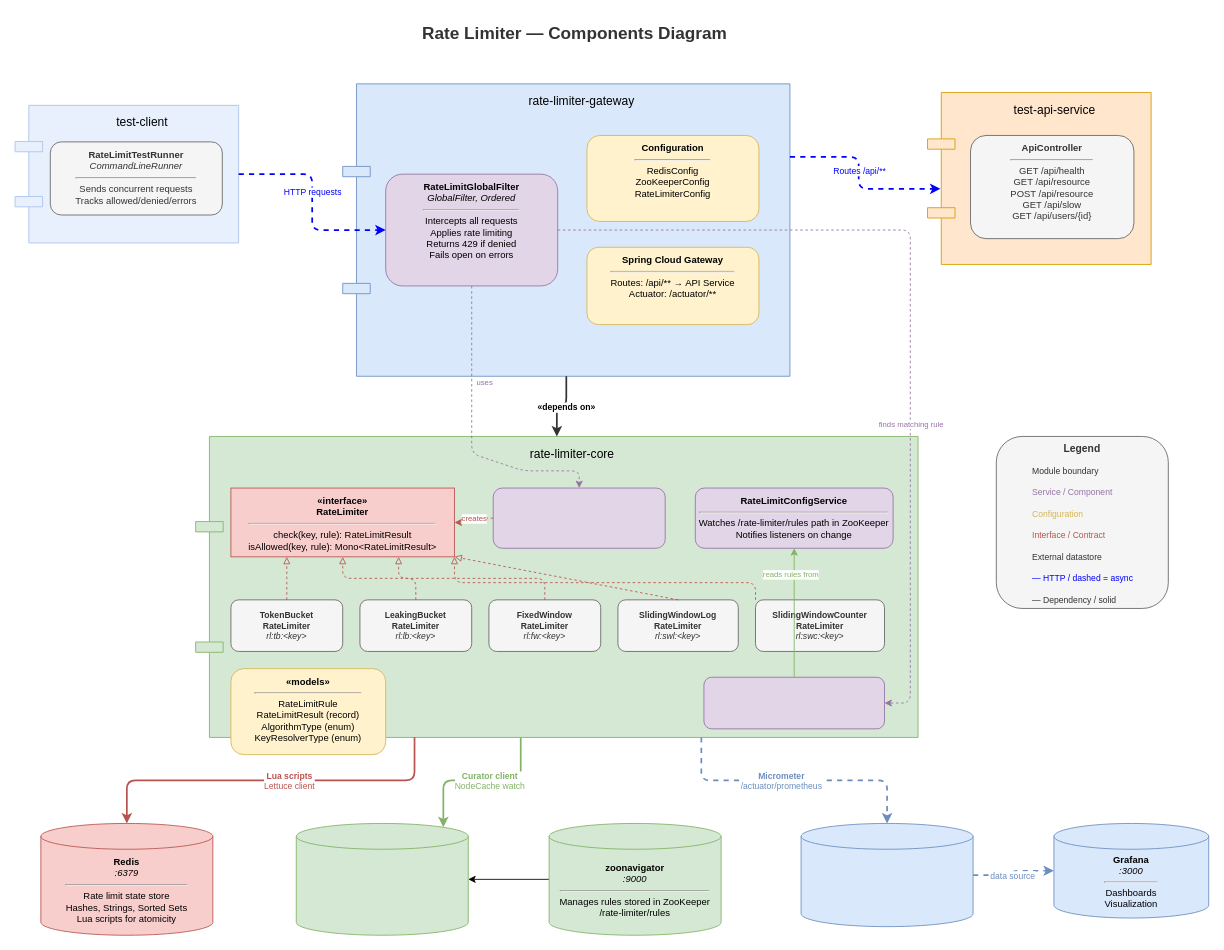
This 1224x950 diagram has some shape labels left out. Here are the shapes that lost their labels. From the top down, the centre of each, then its label:
At point 578,517: "RateLimiterFactory getLimiter(AlgorithmType) Caches instances per type".
At point 794,702: "RuleMatchService findMatchingRule(path) exact, /*, /** patterns".
At point 381,879: "ZooKeeper :2181 Distributed config store /rate-limiter/rules Watch for changes".
At point 886,875: "Prometheus :9091 Scrapes /actuator/prometheus rate_limiter.requests.*".
